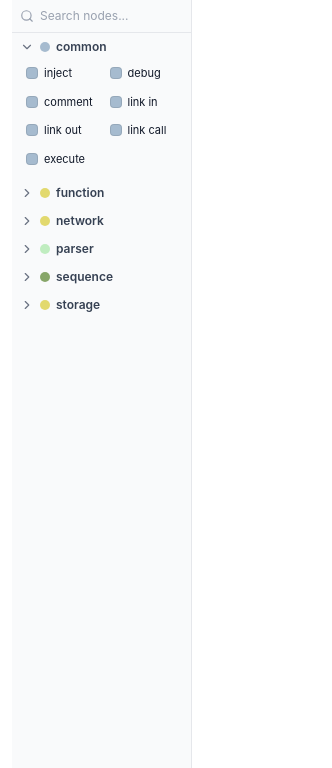
Scenario: Palette › search › expands all matching categories when searching
Type "json" into the field with test id "palette-search".
click(136, 16); type("json")  # box top-left (40, 8), bottom-right (232, 24)
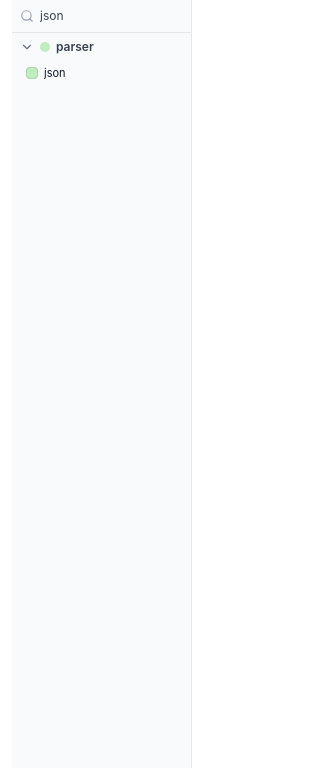
expect the text "json" is shown: met, box top-left (44, 65), bottom-right (66, 82)
